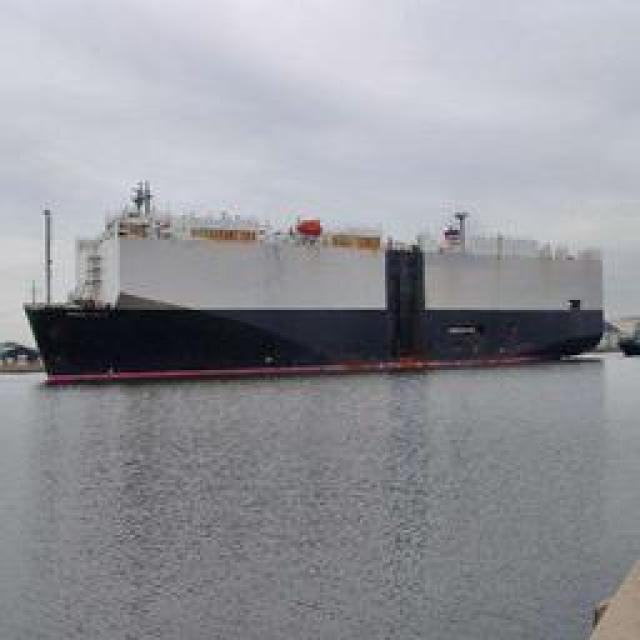CIV_Ship: (14, 198, 612, 382)
